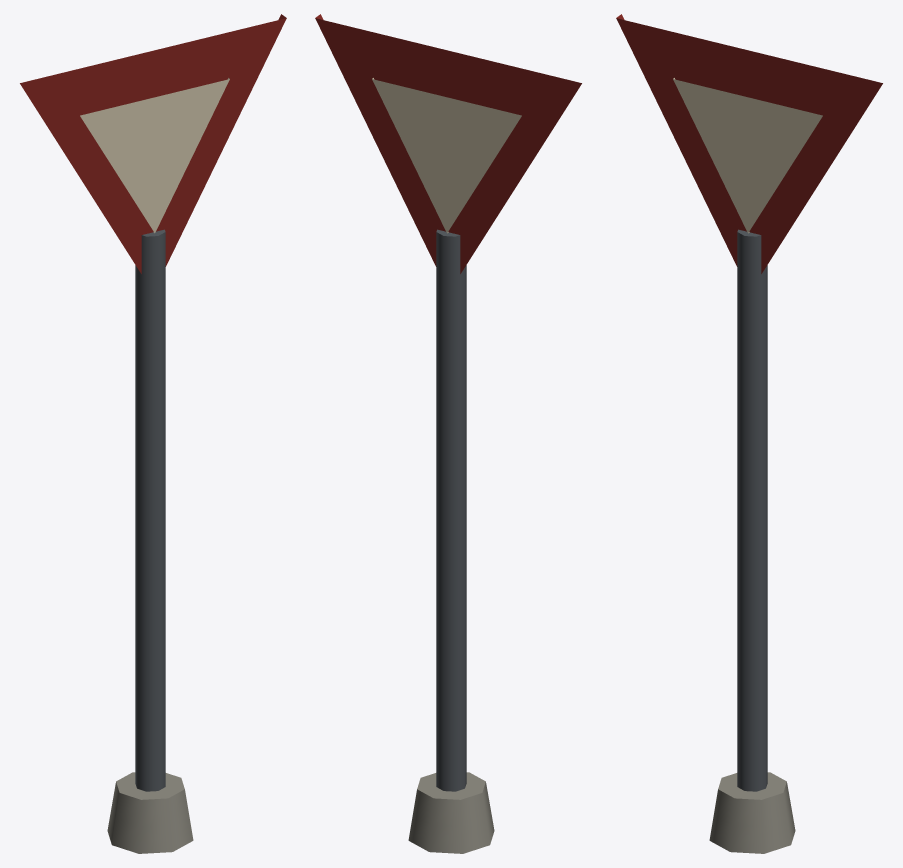
Rendered from sign-yield.glb.
3 renders of one model, left to right at view 1: azimuth 30°, elevation 25°; view 2: azimuth 150°, elevation 25°; view 3: azimuth 330°, elevation 25°, orthographic.
Parts seen in each view (by area): view 1: _MeshInstance3D_74, _MeshInstance3D_72, _MeshInstance3D_75, _MeshInstance3D_73; view 2: _MeshInstance3D_74, _MeshInstance3D_72, _MeshInstance3D_75, _MeshInstance3D_73; view 3: _MeshInstance3D_74, _MeshInstance3D_72, _MeshInstance3D_75, _MeshInstance3D_73.
Boxes of the visible parts, x1,y1,x2,y2 form: _MeshInstance3D_74: [20, 14, 286, 273]; _MeshInstance3D_72: [135, 229, 165, 791]; _MeshInstance3D_75: [80, 78, 229, 233]; _MeshInstance3D_73: [107, 772, 193, 853]; _MeshInstance3D_74: [315, 14, 581, 273]; _MeshInstance3D_72: [436, 229, 466, 791]; _MeshInstance3D_75: [372, 78, 521, 233]; _MeshInstance3D_73: [408, 772, 494, 853]; _MeshInstance3D_74: [616, 14, 882, 273]; _MeshInstance3D_72: [737, 229, 767, 791]; _MeshInstance3D_75: [673, 78, 822, 233]; _MeshInstance3D_73: [709, 772, 795, 853].
Bounding box in the file's own units: 1.39 × 3.9 × 0.4.
